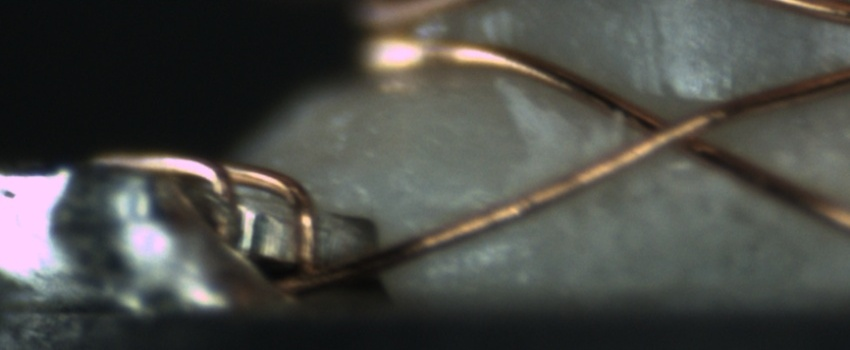CL: (614, 98, 724, 165)
TE: (85, 146, 327, 279)
